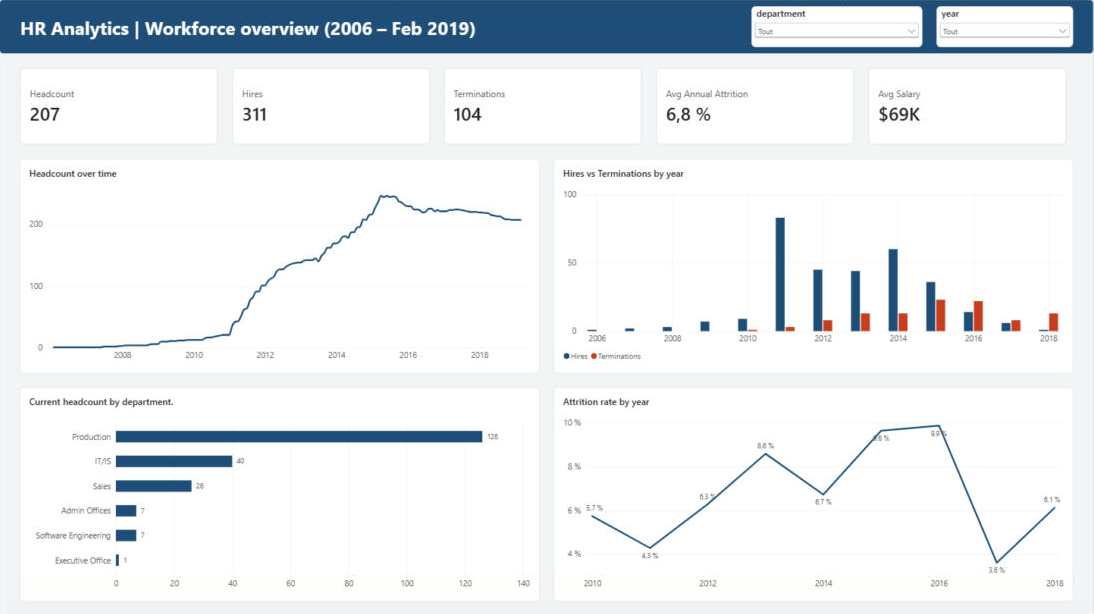

What the dashboard file says about the page in this screenshot:
{"tool":"powerbi","page":{"name":"Overview","canvas":[1920,1080],"ordinal":1},"visuals":[{"type":"shape","box":[0,0,1920,96],"z":0},{"type":"slicer","fields":{"Values":["dim_date.year"]},"box":[1644,12,240,72],"z":2000},{"type":"slicer","fields":{"Values":["dim_department.department_name"]},"box":[1320,12,300,72],"z":3000},{"type":"cardVisual","fields":{"Data":["_Measures.Headcount"]},"box":[36,120,348,135],"z":4000},{"type":"cardVisual","fields":{"Data":["_Measures.Hires"]},"box":[408,120,348,135],"z":5000},{"type":"cardVisual","fields":{"Data":["_Measures.Avg Annual Attrition"]},"box":[1152,120,348,135],"z":6000},{"type":"cardVisual","fields":{"Data":["_Measures.Terminations"]},"box":[780,120,348,135],"z":7000},{"type":"cardVisual","fields":{"Data":["_Measures.Avg Salary"]},"box":[1524,120,348,135],"z":8000},{"type":"lineChart","title":"Headcount over time","fields":{"Category":["dim_date.full_date"],"Y":["_Measures.Headcount"]},"box":[36,279,912,377],"z":9000},{"type":"clusteredColumnChart","title":"Hires vs Terminations by year","fields":{"Category":["dim_date.year"],"Y":["_Measures.Hires","_Measures.Terminations"]},"box":[972,279,912,377],"z":10000},{"type":"clusteredBarChart","title":"Current headcount by department.","fields":{"Category":["dim_department.department_name"],"Y":["_Measures.Headcount"]},"box":[36,680,912,377],"z":11000},{"type":"lineChart","title":"Attrition rate by year","fields":{"Category":["dim_date.year"],"Y":["_Measures.Attrition Rate"]},"box":[972,680,912,377],"z":12000}]}

Visuals, with their boxes in screenshot pixels (x1, y1, x2, y2), scaled from the page's 1920x1080 canvas onto the 1094x614 screenshot:
shape: 0:0:1093:55
slicer - dim_date.year: 937:7:1073:48
slicer - dim_department.department_name: 752:7:923:48
cardVisual - _Measures.Headcount: 21:68:219:145
cardVisual - _Measures.Hires: 232:68:431:145
cardVisual - _Measures.Avg Annual Attrition: 656:68:855:145
cardVisual - _Measures.Terminations: 444:68:643:145
cardVisual - _Measures.Avg Salary: 868:68:1067:145
"Headcount over time" lineChart: 21:159:540:373
"Hires vs Terminations by year" clusteredColumnChart: 554:159:1073:373
"Current headcount by department." clusteredBarChart: 21:387:540:601
"Attrition rate by year" lineChart: 554:387:1073:601
